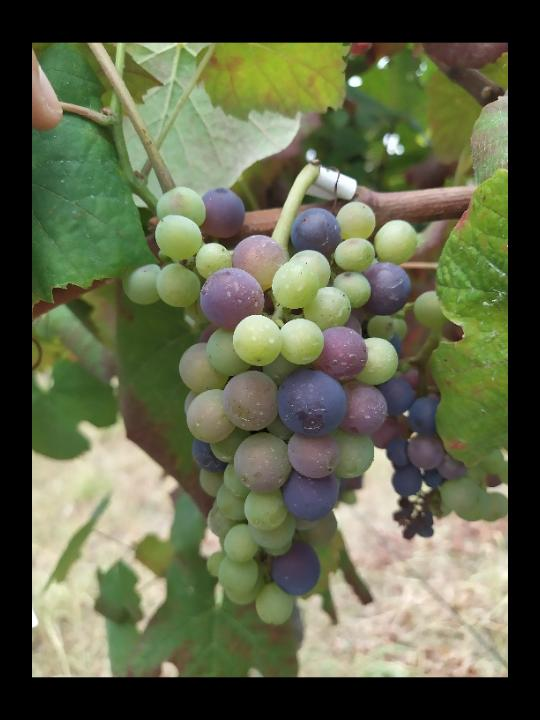grape: (119, 183, 422, 630)
